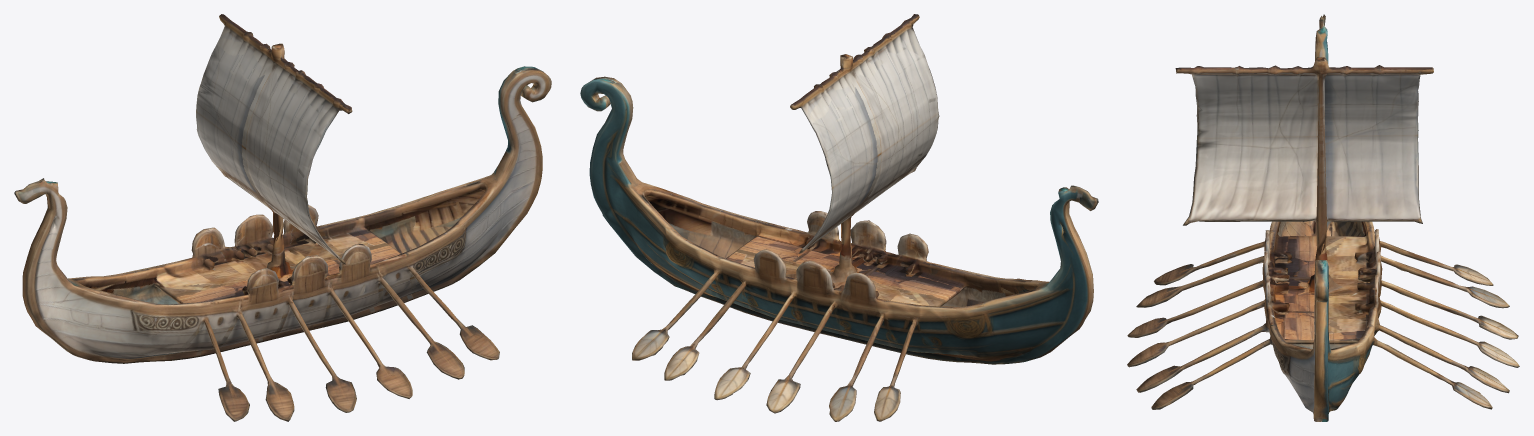
Rendered from ship.fbx.
3 renders of one model, left to right at view 1: azimuth 30°, elevation 25°; view 2: azimuth 150°, elevation 25°; view 3: azimuth 270°, elevation 25°, orthographic. The views are drawn at different scales.
Parts seen in each view (by area): view 1: Mesh_0; view 2: Mesh_0; view 3: Mesh_0.
Boxes of the visible parts, box(x1,y1,x2,y2) form: Mesh_0: box(14, 14, 551, 421); Mesh_0: box(580, 14, 1098, 421); Mesh_0: box(1127, 14, 1519, 421).
Bounding box in the file's own units: 200 × 105 × 128.
